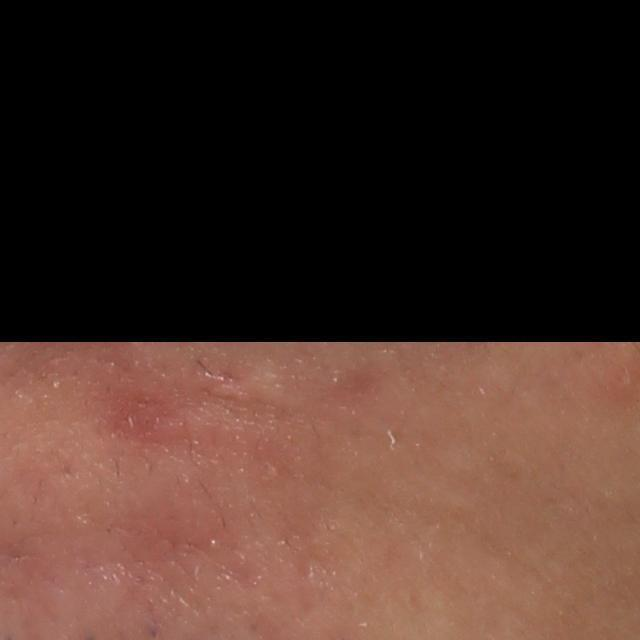hypertrophic_scar: (204, 355, 300, 408)
